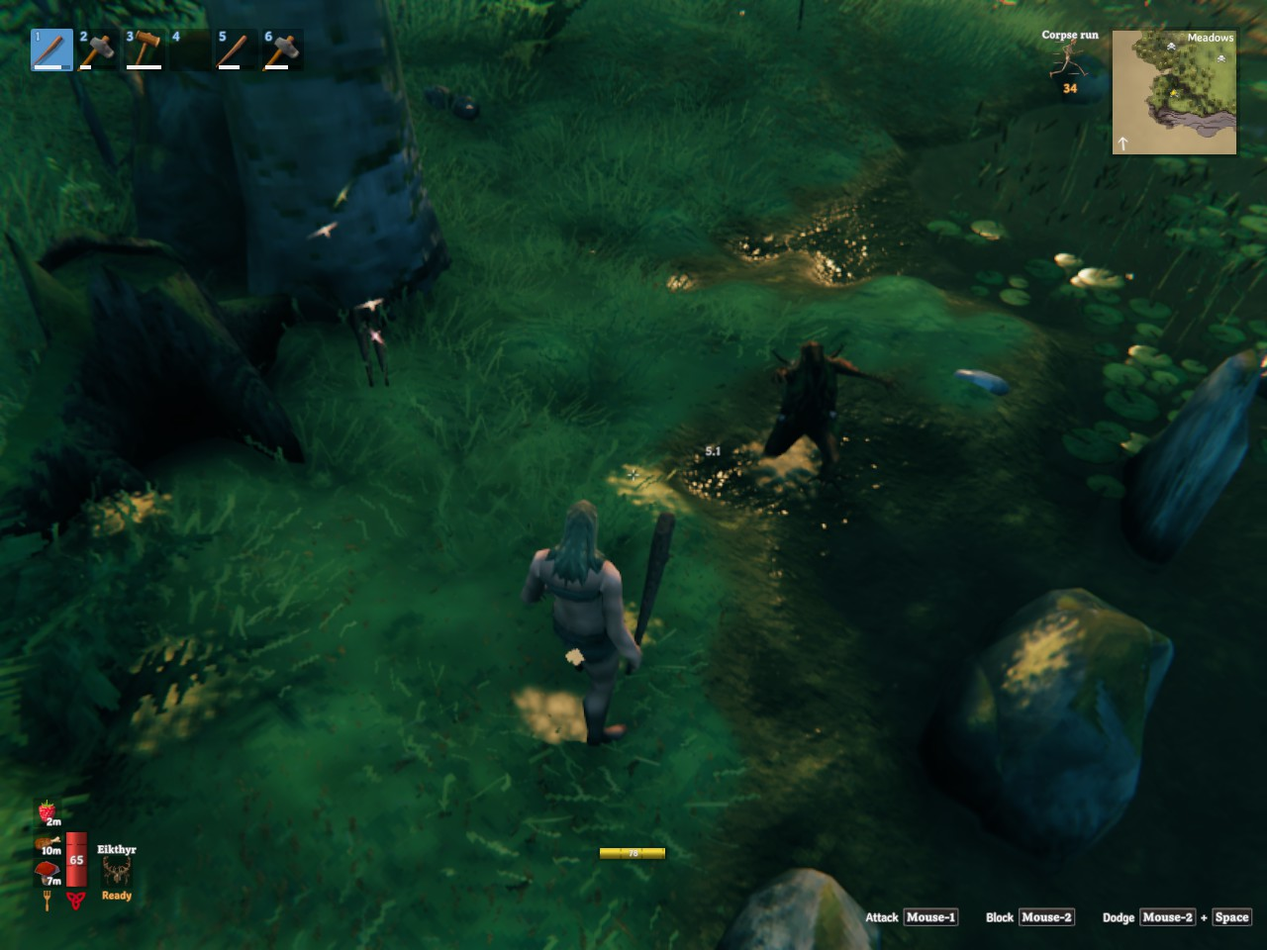Club: (634, 512, 675, 644)
Flint: (956, 370, 1009, 394)
Food Indicator: (36, 797, 63, 891)
Greyling: (763, 341, 892, 478)
Health Bar: (63, 820, 90, 891)
Hotbar: (25, 21, 398, 78)
Status Indicator: (1034, 25, 1110, 96)
Stone: (451, 96, 479, 120), (424, 85, 448, 108)
